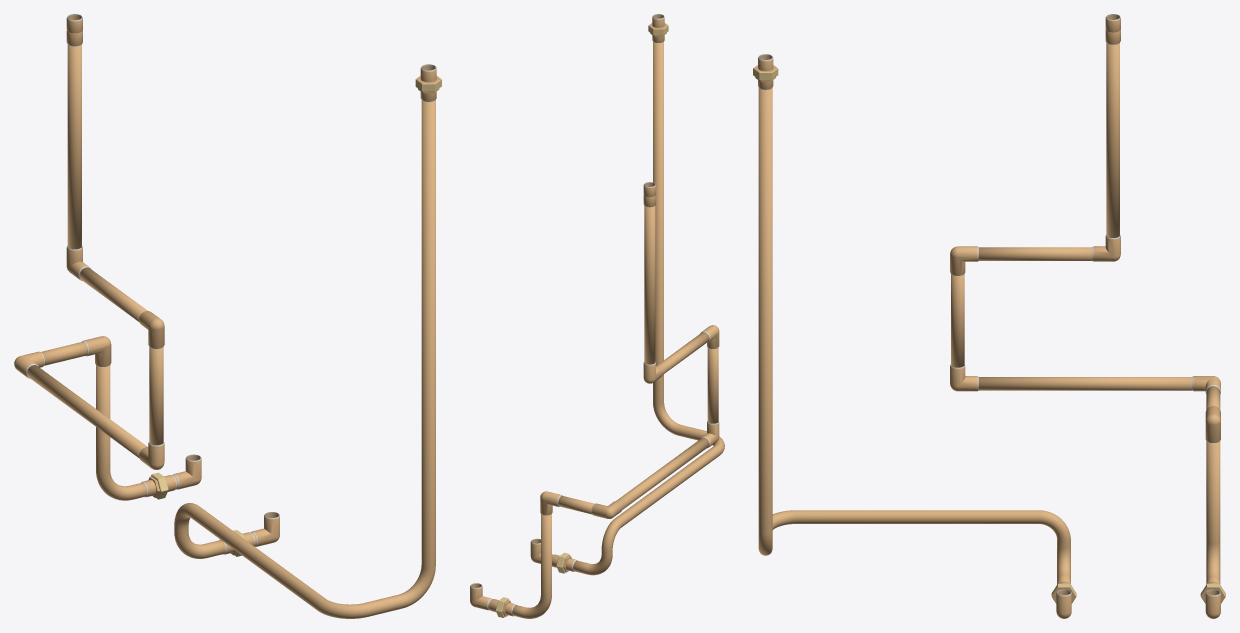
Rendered from slab_pipes_supply__softener-yes_and_plumbing-copper.glb.
The picture shows the model from 3 angles, left to right: view 1: azimuth 30°, elevation 25°; view 2: azimuth 150°, elevation 25°; view 3: azimuth 270°, elevation 25°; orthographic projection. The views are drawn at different scales.
Parts seen in each view (by area): view 1: pipe_supply_softener_feed__copper, pipe_supply_from_softener__copper, fit_adapter_pipe_supply_from_softener__copper, fit_adapter_pipe_supply_softener_feed__copper.001, fit_adapter_pipe_supply_softener_feed__copper, fit_elbow_pipe_supply_from_softener__copper_5, fit_elbow_pipe_supply_from_softener__copper_2; view 2: pipe_supply_softener_feed__copper, pipe_supply_from_softener__copper, fit_adapter_pipe_supply_from_softener__copper, fit_adapter_pipe_supply_softener_feed__copper.001, fit_adapter_pipe_supply_softener_feed__copper, fit_elbow_pipe_supply_from_softener__copper_3, fit_elbow_pipe_supply_from_softener__copper_2; view 3: pipe_supply_softener_feed__copper, pipe_supply_from_softener__copper, fit_adapter_pipe_supply_from_softener__copper, fit_adapter_pipe_supply_softener_feed__copper.001, fit_elbow_pipe_supply_from_softener__copper_5, fit_adapter_pipe_supply_softener_feed__copper.
Boxes of the visible parts, <box> form: pipe_supply_softener_feed__copper: <box>174,100,435,618</box>; pipe_supply_from_softener__copper: <box>27,44,163,500</box>; fit_adapter_pipe_supply_from_softener__copper: <box>141,454,201,499</box>; fit_adapter_pipe_supply_softener_feed__copper.001: <box>219,512,279,556</box>; fit_adapter_pipe_supply_softener_feed__copper: <box>415,64,441,101</box>; fit_elbow_pipe_supply_from_softener__copper_5: <box>139,311,164,348</box>; fit_elbow_pipe_supply_from_softener__copper_2: <box>82,336,111,366</box>; pipe_supply_softener_feed__copper: <box>573,42,724,575</box>; pipe_supply_from_softener__copper: <box>512,206,718,618</box>; fit_adapter_pipe_supply_from_softener__copper: <box>470,583,516,617</box>; fit_adapter_pipe_supply_softener_feed__copper.001: <box>530,538,577,573</box>; fit_adapter_pipe_supply_softener_feed__copper: <box>648,14,668,42</box>; fit_elbow_pipe_supply_from_softener__copper_3: <box>591,501,622,518</box>; fit_elbow_pipe_supply_from_softener__copper_2: <box>540,491,562,515</box>; pipe_supply_softener_feed__copper: <box>758,88,1070,584</box>; pipe_supply_from_softener__copper: <box>951,43,1220,584</box>; fit_adapter_pipe_supply_from_softener__copper: <box>1200,581,1225,618</box>; fit_adapter_pipe_supply_softener_feed__copper.001: <box>1051,581,1076,618</box>; fit_elbow_pipe_supply_from_softener__copper_5: <box>950,246,978,275</box>; fit_adapter_pipe_supply_softener_feed__copper: <box>753,54,778,89</box>.
Bounding box in the file's own units: 0.3328 × 1 × 0.7604.
